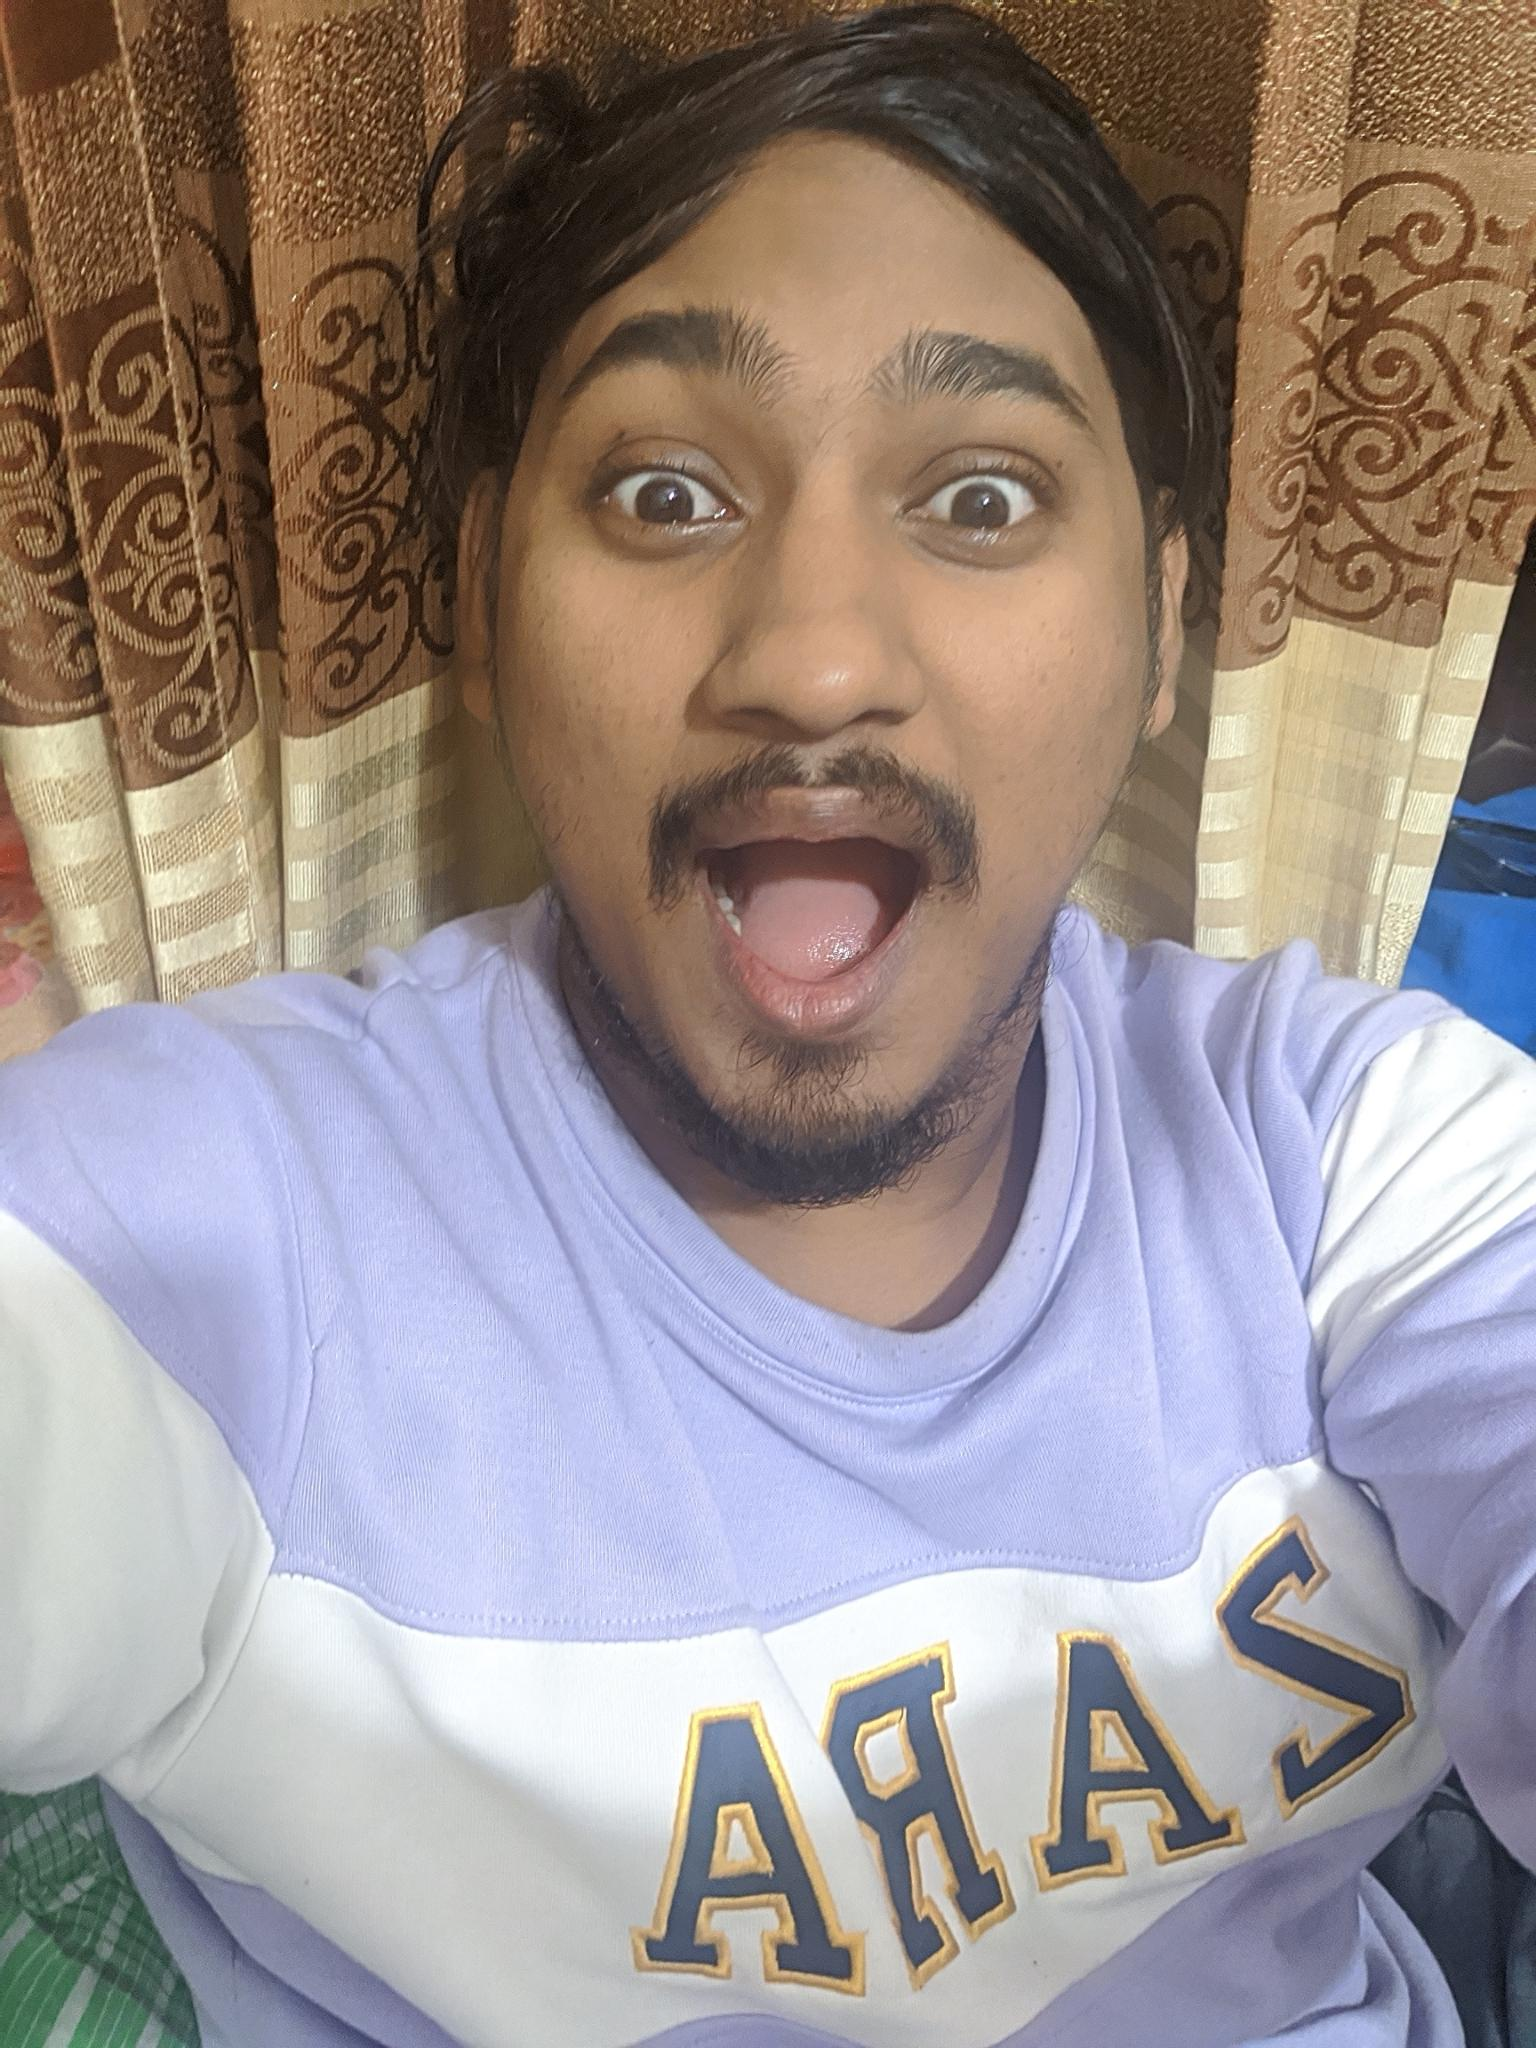Surprise: (499, 226, 1155, 1205)
